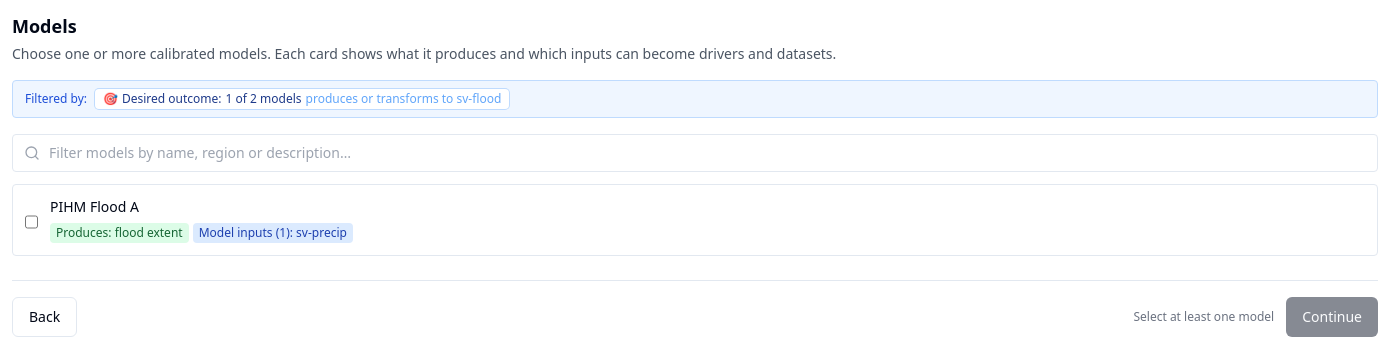
Test case: ModelsStep › still reports an empty search separately from an empty indicator
This screenshot has width=1390, height=354.
Check: the text "PIHM Flood A" is shown, box [50, 197, 139, 216]
Type "zzzz" into the field with placeholder "Filter models by name, region or description…" at coordinates (695, 153), box [12, 134, 1378, 172]
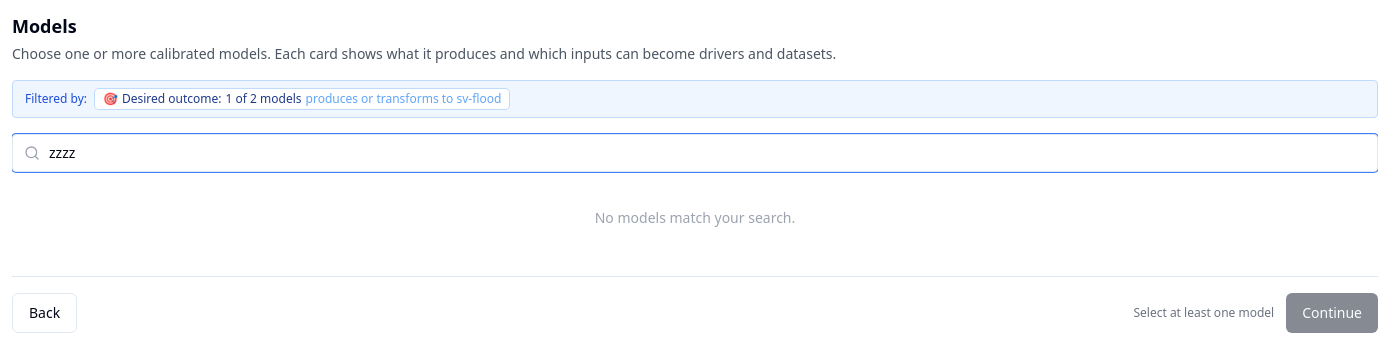
Check: the text "No models match your search." is shown, box [595, 208, 795, 227]
